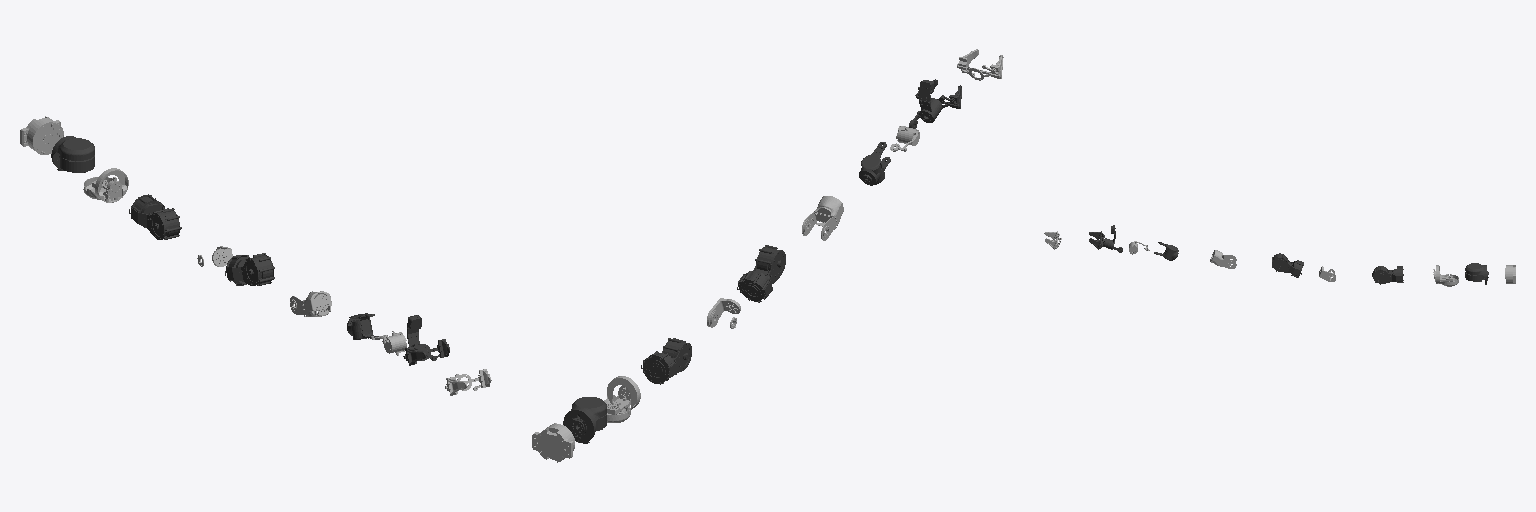
robot.urdf — dr_octopus_left:
<?xml version="1.0" ?>
<robot name="dr_octopus_left" xmlns:xacro="http://www.ros.org/wiki/xacro">

  <material name="grey"><color rgba="0.7 0.7 0.7 1.0"/></material>
  <material name="dark_grey"><color rgba="0.3 0.3 0.3 1.0"/></material>

  <link name="base_link"/>

  <joint name="base_joint" type="fixed">
    <parent link="base_link"/>
    <child link="link0"/>
    <origin xyz="-0.025473 0.281107 0.520182" rpy="0 0 0"/>
  </joint>

  <link name="link0">
    <visual>
      <origin xyz="0 0 0" rpy="0 0 0"/>
      <geometry><mesh filename="package://dr_octopus_left_description/meshes/link0.stl"/></geometry>
      <material name="grey"/>
    </visual>
    <inertial>
      <mass value="0.5"/>
      <inertia ixx="0.001" ixy="0" ixz="0" iyy="0.001" iyz="0" izz="0.001"/>
    </inertial>
  </link>

  <joint name="joint1" type="revolute">
    <parent link="link0"/>
    <child link="link1"/>
    <origin xyz="0.017693 -0.058500 -0.004599" rpy="0 0 0"/>
    <axis xyz="0 1 0"/>
    <limit lower="-1.25" upper="3.0" effort="120" velocity="10.47"/>
  </joint>

  <link name="link1">
    <visual>
      <origin xyz="0 0 0" rpy="0 0 0"/>
      <geometry><mesh filename="package://dr_octopus_left_description/meshes/link1.stl"/></geometry>
      <material name="dark_grey"/>
    </visual>
    <inertial>
      <mass value="0.5"/>
      <inertia ixx="0.001" ixy="0" ixz="0" iyy="0.001" iyz="0" izz="0.001"/>
    </inertial>
  </link>

  <joint name="joint2" type="revolute">
    <parent link="link1"/>
    <child link="link2"/>
    <origin xyz="-0.003600 -0.080500 -0.031253" rpy="0 0 0"/>
    <axis xyz="0 0 1"/>
    <limit lower="-1.7" upper="1.7" effort="120" velocity="10.47"/>
  </joint>

  <link name="link2">
    <visual>
      <origin xyz="0 0 0" rpy="0 0 0"/>
      <geometry><mesh filename="package://dr_octopus_left_description/meshes/link2.stl"/></geometry>
      <material name="grey"/>
    </visual>
    <inertial>
      <mass value="0.5"/>
      <inertia ixx="0.001" ixy="0" ixz="0" iyy="0.001" iyz="0" izz="0.001"/>
    </inertial>
  </link>

  <joint name="joint3_prime" type="revolute">
    <parent link="link2"/>
    <child link="link3_prime"/>
    <origin xyz="0.000895 -0.096428 0.035645" rpy="0 0 0"/>
    <axis xyz="0 1 0"/>
    <limit lower="-1.57" upper="1.57" effort="60" velocity="10.47"/>
  </joint>

  <link name="link3_prime">
    <visual>
      <origin xyz="0 0 0" rpy="0 0 0"/>
      <geometry><mesh filename="package://dr_octopus_left_description/meshes/link3_prime.stl"/></geometry>
      <material name="dark_grey"/>
    </visual>
    <inertial>
      <mass value="0.5"/>
      <inertia ixx="0.001" ixy="0" ixz="0" iyy="0.001" iyz="0" izz="0.001"/>
    </inertial>
  </link>

  <joint name="joint4_prime" type="revolute">
    <parent link="link3_prime"/>
    <child link="link4_prime"/>
    <origin xyz="0.036615 -0.155641 -0.001206" rpy="0 0 0"/>
    <axis xyz="1 0 0"/>
    <limit lower="0.0" upper="1.8" effort="60" velocity="10.47"/>
  </joint>

  <link name="link4_prime">
    <visual>
      <origin xyz="0 0 0" rpy="0 0 0"/>
      <geometry><mesh filename="package://dr_octopus_left_description/meshes/link4_prime.stl"/></geometry>
      <material name="grey"/>
    </visual>
    <inertial>
      <mass value="0.5"/>
      <inertia ixx="0.001" ixy="0" ixz="0" iyy="0.001" iyz="0" izz="0.001"/>
    </inertial>
  </link>

  <joint name="joint3" type="revolute">
    <parent link="link4_prime"/>
    <child link="link3"/>
    <origin xyz="-0.036460 -0.057459 0.065411" rpy="0 0 0"/>
    <axis xyz="0 1 0"/>
    <limit lower="-1.57" upper="1.57" effort="60" velocity="10.47"/>
  </joint>

  <link name="link3">
    <visual>
      <origin xyz="0 0 0" rpy="0 0 0"/>
      <geometry><mesh filename="package://dr_octopus_left_description/meshes/link3.stl"/></geometry>
      <material name="dark_grey"/>
    </visual>
    <inertial>
      <mass value="0.5"/>
      <inertia ixx="0.001" ixy="0" ixz="0" iyy="0.001" iyz="0" izz="0.001"/>
    </inertial>
  </link>

  <joint name="joint4" type="revolute">
    <parent link="link3"/>
    <child link="link4"/>
    <origin xyz="0.001889 -0.152052 0.021841" rpy="0 0 0"/>
    <axis xyz="1 0 0"/>
    <limit lower="0.0" upper="1.8" effort="60" velocity="10.47"/>
  </joint>

  <link name="link4">
    <visual>
      <origin xyz="0 0 0" rpy="0 0 0"/>
      <geometry><mesh filename="package://dr_octopus_left_description/meshes/link4.stl"/></geometry>
      <material name="grey"/>
    </visual>
    <inertial>
      <mass value="0.5"/>
      <inertia ixx="0.001" ixy="0" ixz="0" iyy="0.001" iyz="0" izz="0.001"/>
    </inertial>
  </link>

  <joint name="joint5" type="revolute">
    <parent link="link4"/>
    <child link="link5"/>
    <origin xyz="0.000117 -0.112391 0.042053" rpy="0 0 0"/>
    <axis xyz="0 1 0"/>
    <limit lower="-1.5" upper="1.5" effort="14" velocity="10.47"/>
  </joint>

  <link name="link5">
    <visual>
      <origin xyz="0 0 0" rpy="0 0 0"/>
      <geometry><mesh filename="package://dr_octopus_left_description/meshes/link5.stl"/></geometry>
      <material name="dark_grey"/>
    </visual>
    <inertial>
      <mass value="0.5"/>
      <inertia ixx="0.001" ixy="0" ixz="0" iyy="0.001" iyz="0" izz="0.001"/>
    </inertial>
  </link>

  <joint name="joint6" type="revolute">
    <parent link="link5"/>
    <child link="link6"/>
    <origin xyz="-0.001910 -0.078977 0.033898" rpy="0 0 0"/>
    <axis xyz="0 0 1"/>
    <limit lower="-0.75" upper="0.75" effort="14" velocity="10.47"/>
  </joint>

  <link name="link6">
    <visual>
      <origin xyz="0 0 0" rpy="0 0 0"/>
      <geometry><mesh filename="package://dr_octopus_left_description/meshes/link6.stl"/></geometry>
      <material name="grey"/>
    </visual>
    <inertial>
      <mass value="0.5"/>
      <inertia ixx="0.001" ixy="0" ixz="0" iyy="0.001" iyz="0" izz="0.001"/>
    </inertial>
  </link>

  <joint name="joint7" type="revolute">
    <parent link="link6"/>
    <child link="link7"/>
    <origin xyz="0.020944 -0.042122 0.019970" rpy="0 0 0"/>
    <axis xyz="1 0 0"/>
    <limit lower="-1.4" upper="1.4" effort="14" velocity="10.47"/>
  </joint>

  <link name="link7">
    <visual>
      <origin xyz="0 0 0" rpy="0 0 0"/>
      <geometry><mesh filename="package://dr_octopus_left_description/meshes/link7.stl"/></geometry>
      <material name="dark_grey"/>
    </visual>
    <inertial>
      <mass value="0.5"/>
      <inertia ixx="0.001" ixy="0" ixz="0" iyy="0.001" iyz="0" izz="0.001"/>
    </inertial>
  </link>

  <joint name="joint_ee" type="prismatic">
    <parent link="link7"/>
    <child link="ee"/>
    <origin xyz="-0.020977 -0.139232 0.074977" rpy="0 0 0"/>
    <axis xyz="0 1 0"/>
    <limit lower="0.0" upper="0.044" effort="333" velocity="10.0"/>
  </joint>

  <link name="ee">
    <visual>
      <origin xyz="0 0 0" rpy="0 0 0"/>
      <geometry><mesh filename="package://dr_octopus_left_description/meshes/ee.stl"/></geometry>
      <material name="grey"/>
    </visual>
    <inertial>
      <mass value="0.5"/>
      <inertia ixx="0.001" ixy="0" ixz="0" iyy="0.001" iyz="0" izz="0.001"/>
    </inertial>
  </link>

</robot>

--- What the picture shows (computed from the rendered views, not written in the file) ---
3 views of the same robot in one strip: view 1: azimuth 30°, elevation 25°; view 2: azimuth 150°, elevation 25°; view 3: azimuth 270°, elevation 25° (orthographic).
Model dr_octopus_left with 12 links and 11 joints (9 revolute, 1 prismatic, 1 fixed), rooted at base_link, posed every joint at zero.
Links seen in each view (by area): view 1: link3_prime, link1, link3, link0, link2, link7, link4, ee, link5; view 2: link3, link3_prime, link1, link0, link2, link7, link4, link5, ee, link4_prime; view 3: none.
Link boxes in pixels (bbox=[...]): link3_prime: bbox=[129, 194, 181, 239]; link1: bbox=[51, 136, 94, 172]; link3: bbox=[225, 253, 274, 285]; link0: bbox=[20, 116, 63, 154]; link2: bbox=[83, 168, 128, 202]; link7: bbox=[403, 315, 449, 365]; link4: bbox=[290, 291, 331, 316]; ee: bbox=[445, 369, 491, 395]; link5: bbox=[347, 313, 378, 339]; link3: bbox=[737, 245, 785, 302]; link3_prime: bbox=[641, 338, 691, 384]; link1: bbox=[563, 397, 606, 443]; link0: bbox=[532, 423, 574, 462]; link2: bbox=[604, 376, 640, 422]; link7: bbox=[909, 79, 961, 128]; link4: bbox=[802, 196, 843, 240]; link5: bbox=[859, 142, 890, 185]; ee: bbox=[957, 49, 1003, 80]; link4_prime: bbox=[707, 298, 740, 328].
Size in the robot's own frame: 0.1677 by 2.97 by 0.4004 metres.
11 mesh visuals loaded from 11 distinct referenced files (11 binary STL).
